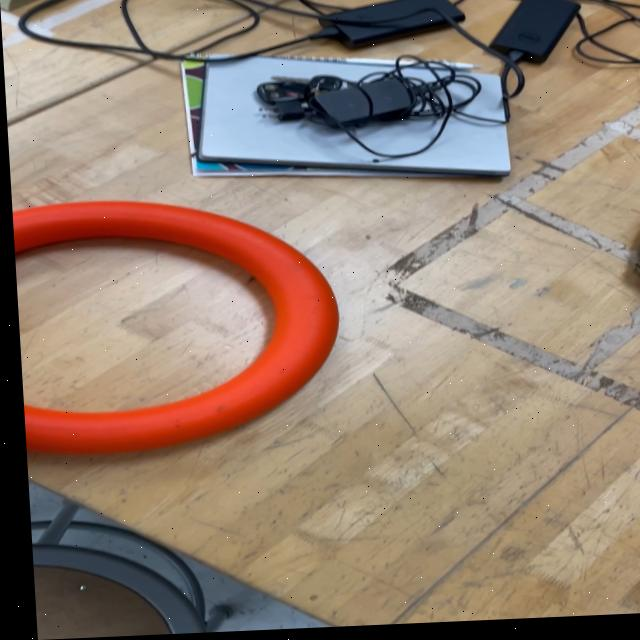note: (9, 191, 346, 458)
